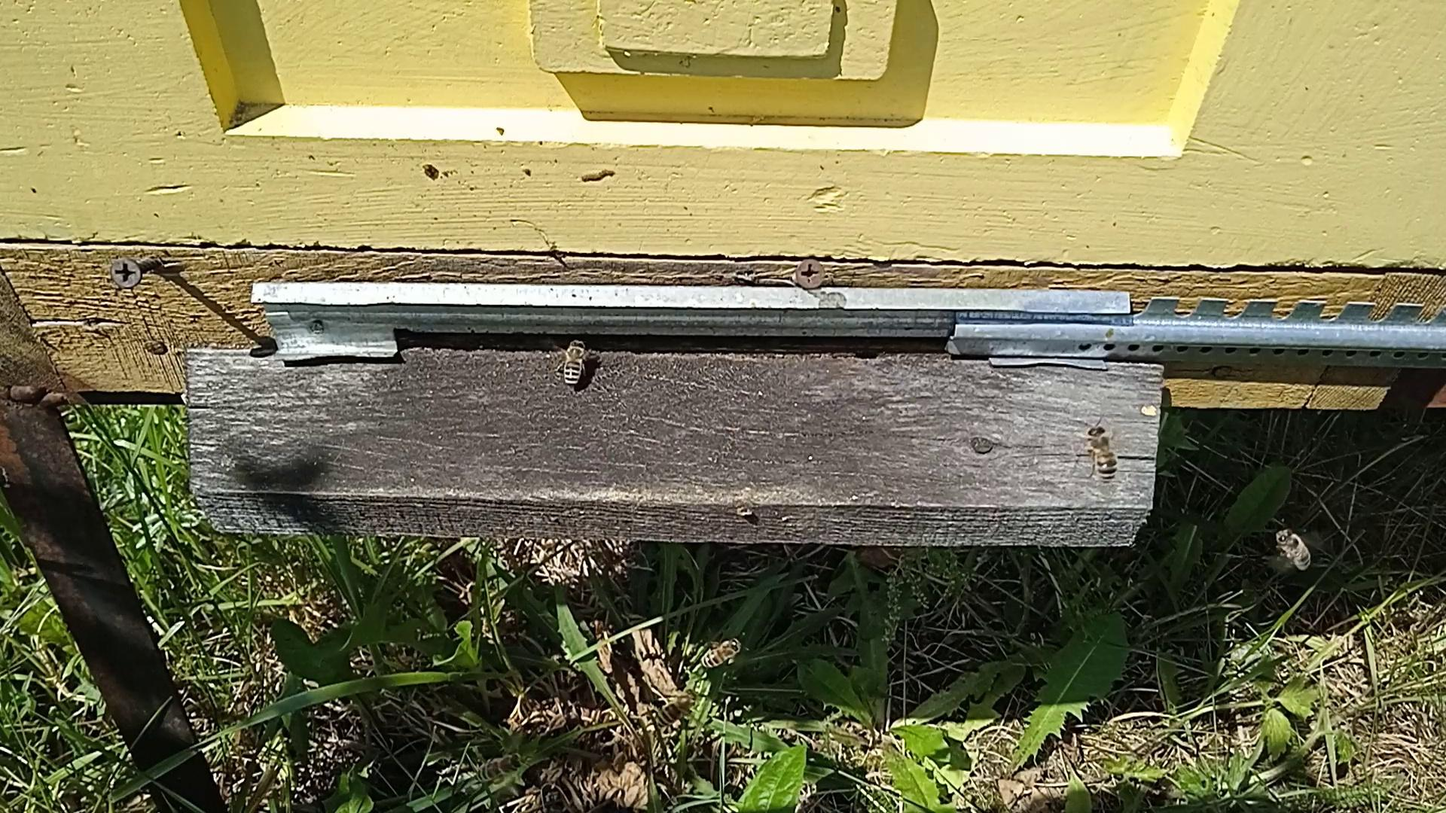worker-bee: (1084, 423, 1118, 483), (1274, 527, 1313, 572), (655, 689, 698, 729), (556, 337, 590, 387), (701, 637, 743, 668)
